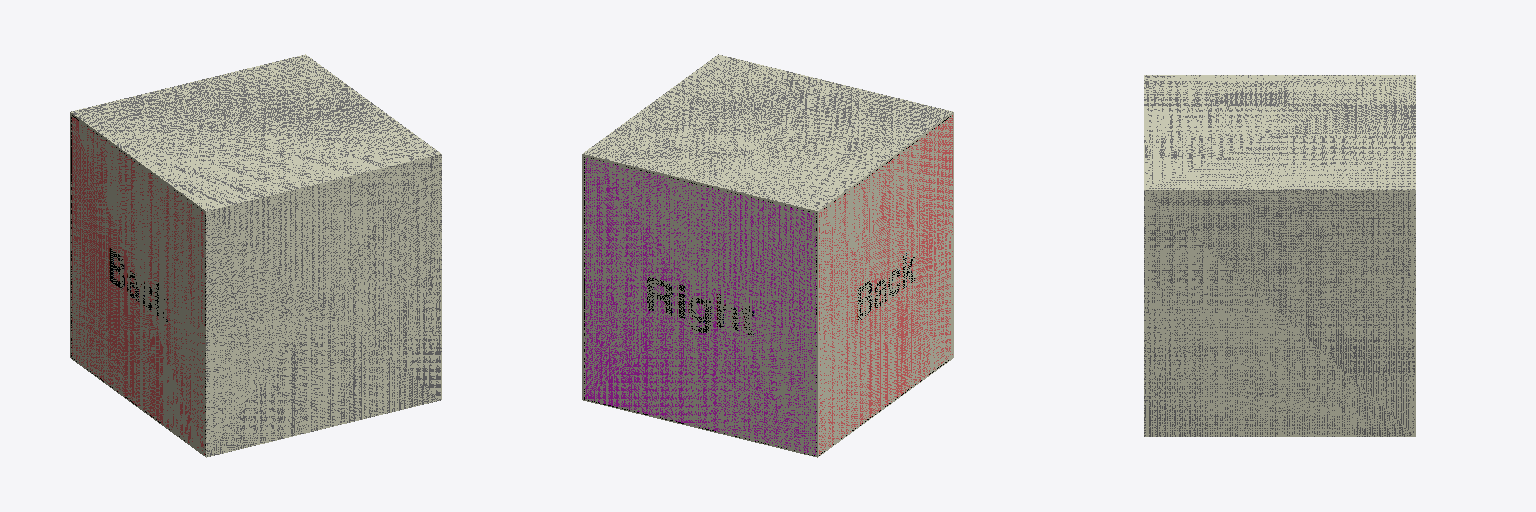
3 renders of one model, left to right at view 1: azimuth 30°, elevation 25°; view 2: azimuth 150°, elevation 25°; view 3: azimuth 270°, elevation 25°, orthographic.
Visible parts, largest first — view 1: Mesh1 Model; view 2: Mesh1 Model; view 3: Mesh1 Model.
Part boxes in pixels (bbox=[...]): Mesh1 Model: bbox=[70, 54, 441, 457]; Mesh1 Model: bbox=[582, 54, 953, 457]; Mesh1 Model: bbox=[1144, 75, 1415, 436].
Bounding box in the file's own units: 1.22 × 1.22 × 1.22.
7 materials, 3 textured.